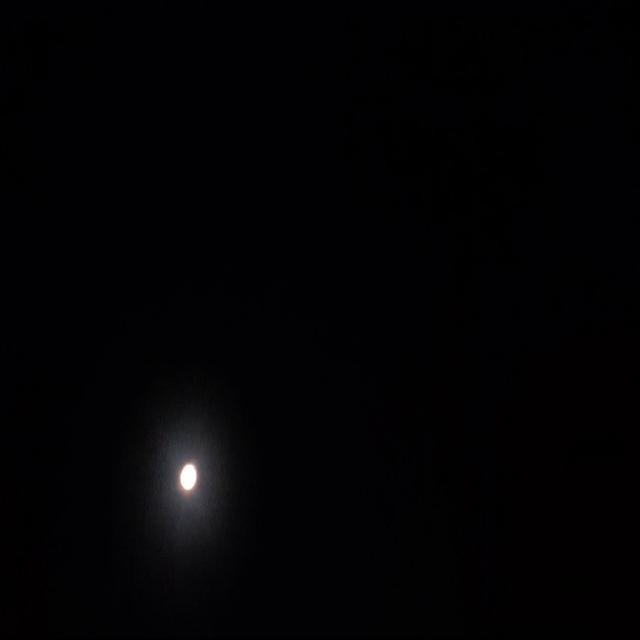moon: (182, 458, 202, 496)
